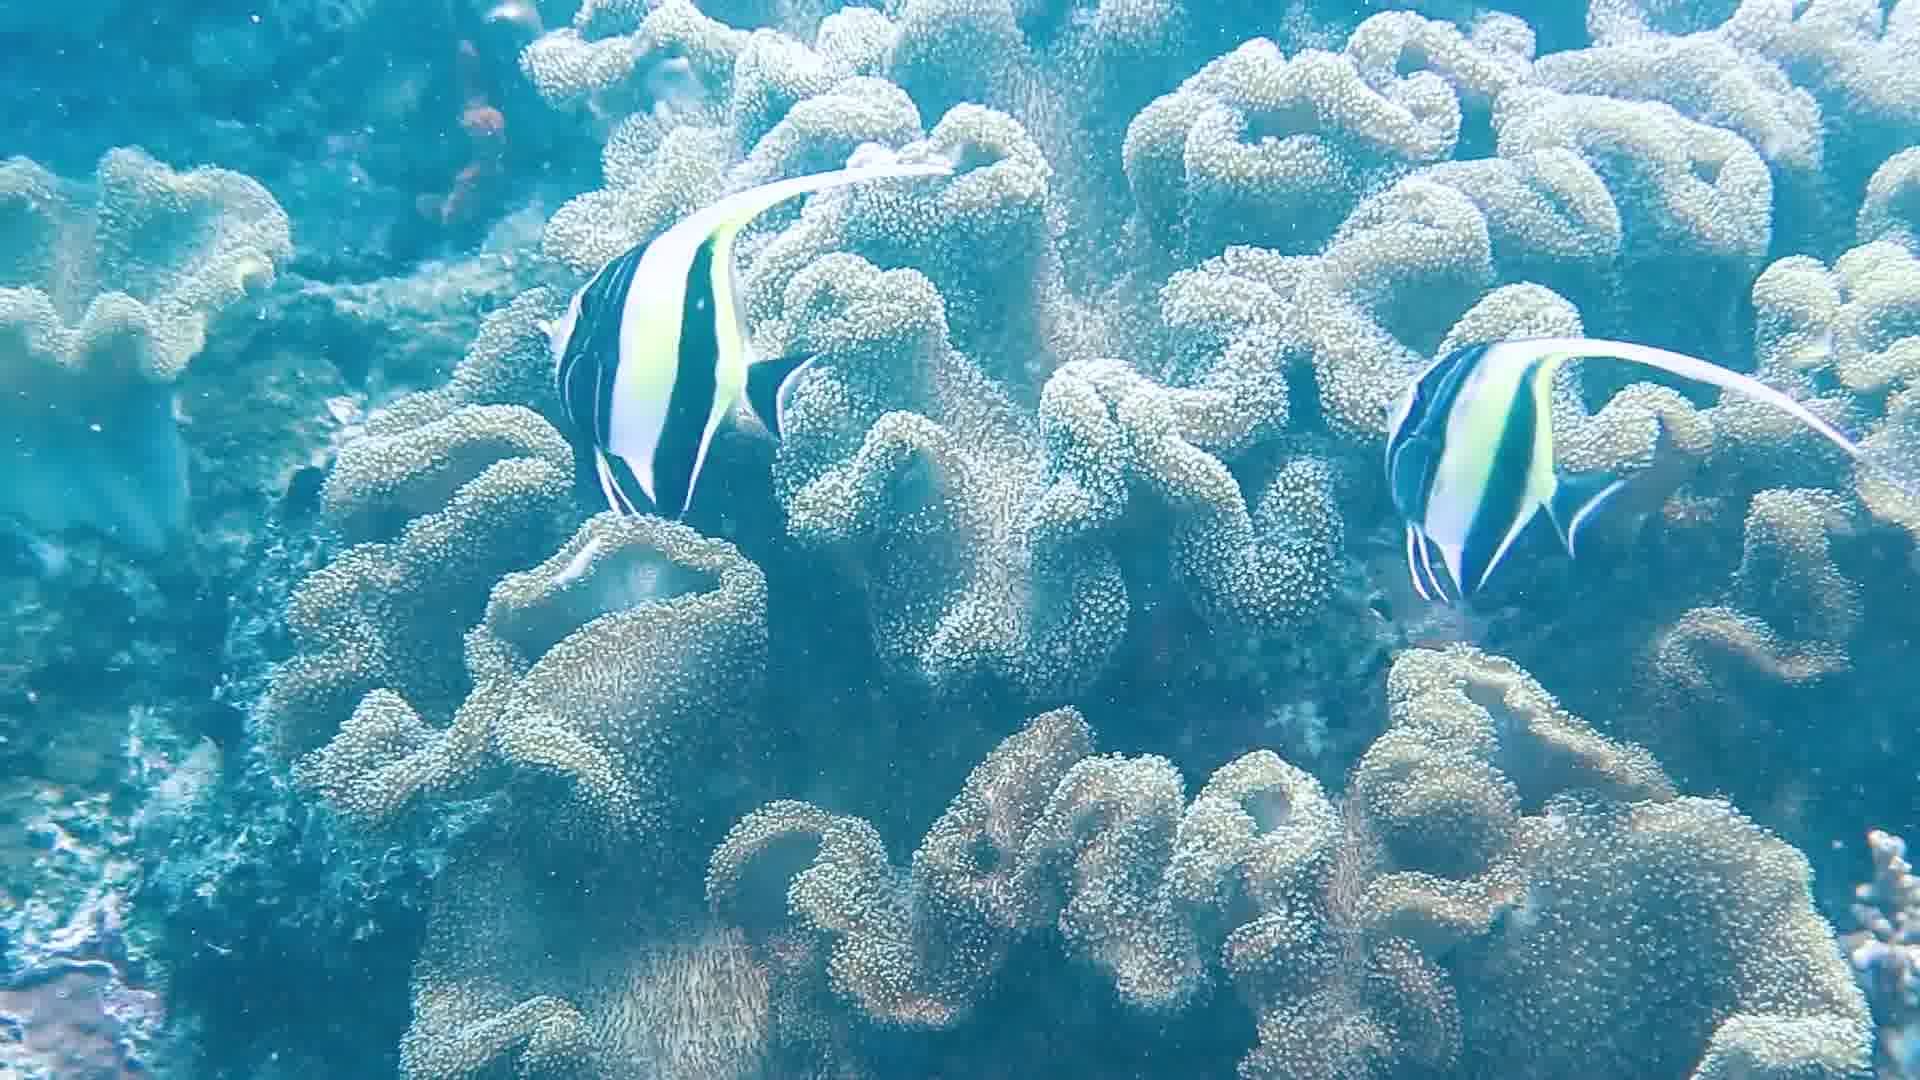Zanclus cornutus: (510, 224, 840, 516), (1333, 309, 1663, 600)
